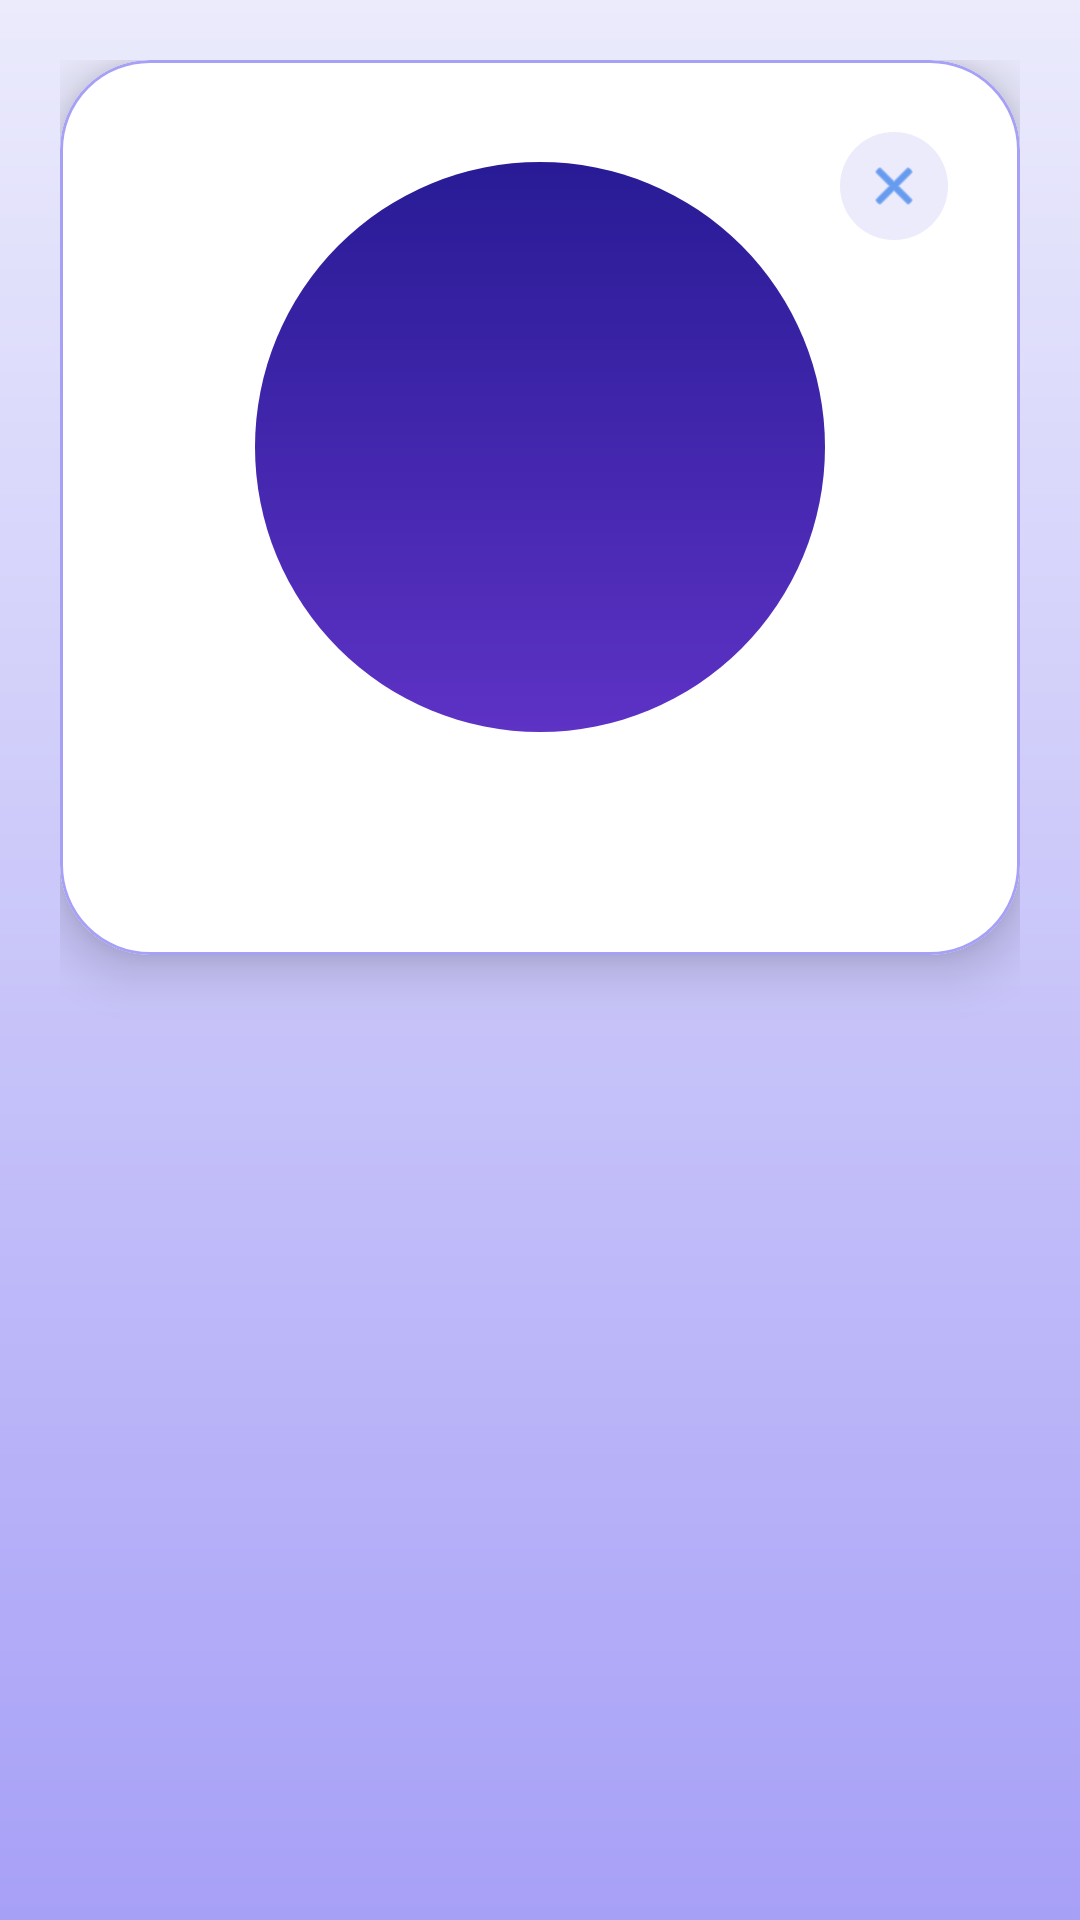

Icon bounding boxes for this 1080x1920 phone screenshot, format (x1, y1, x2, y2):
Cerrar: (875, 167, 913, 205)
